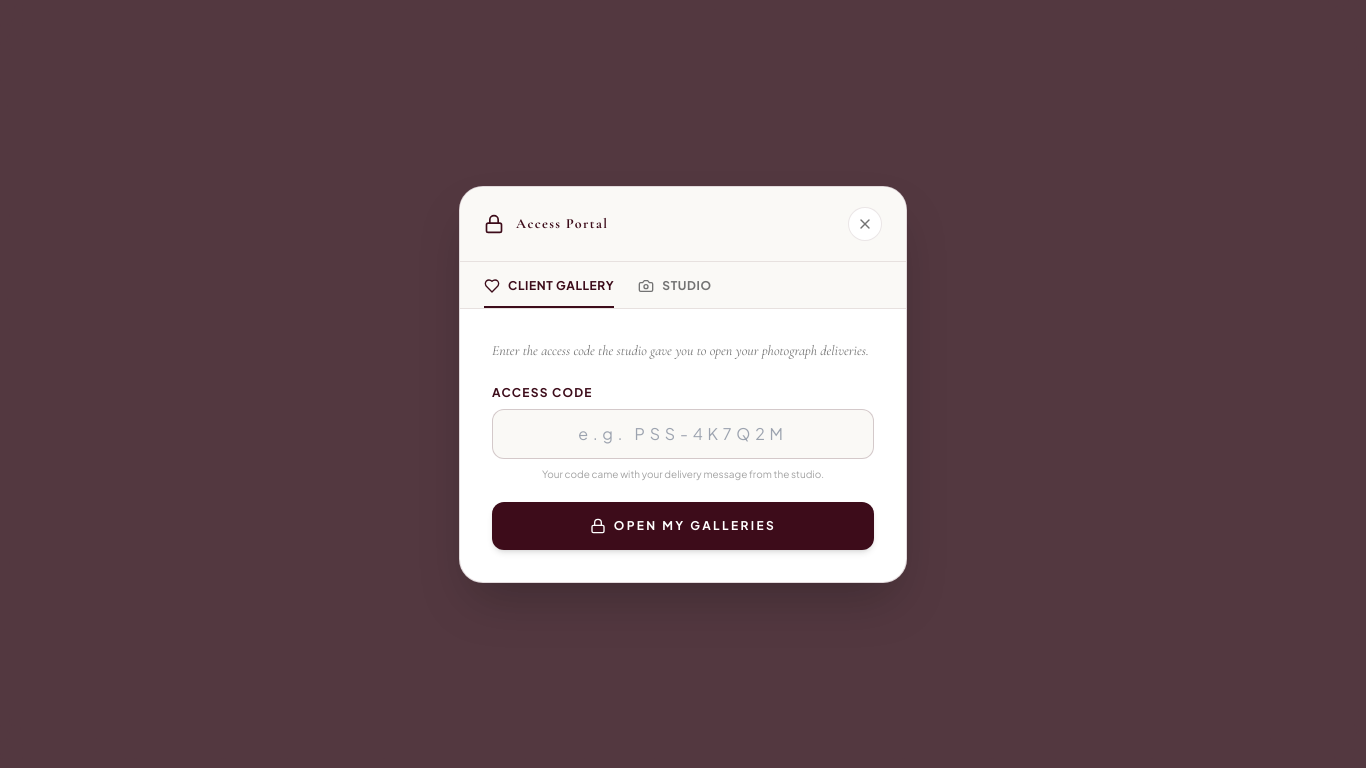
Test case: AuthModal — client sign-in (real check) › refuses an unrecognised code with a message, and never signs in
In the field labelled "Access code": (683, 434) [492, 408, 874, 458], type "WRONG-99"
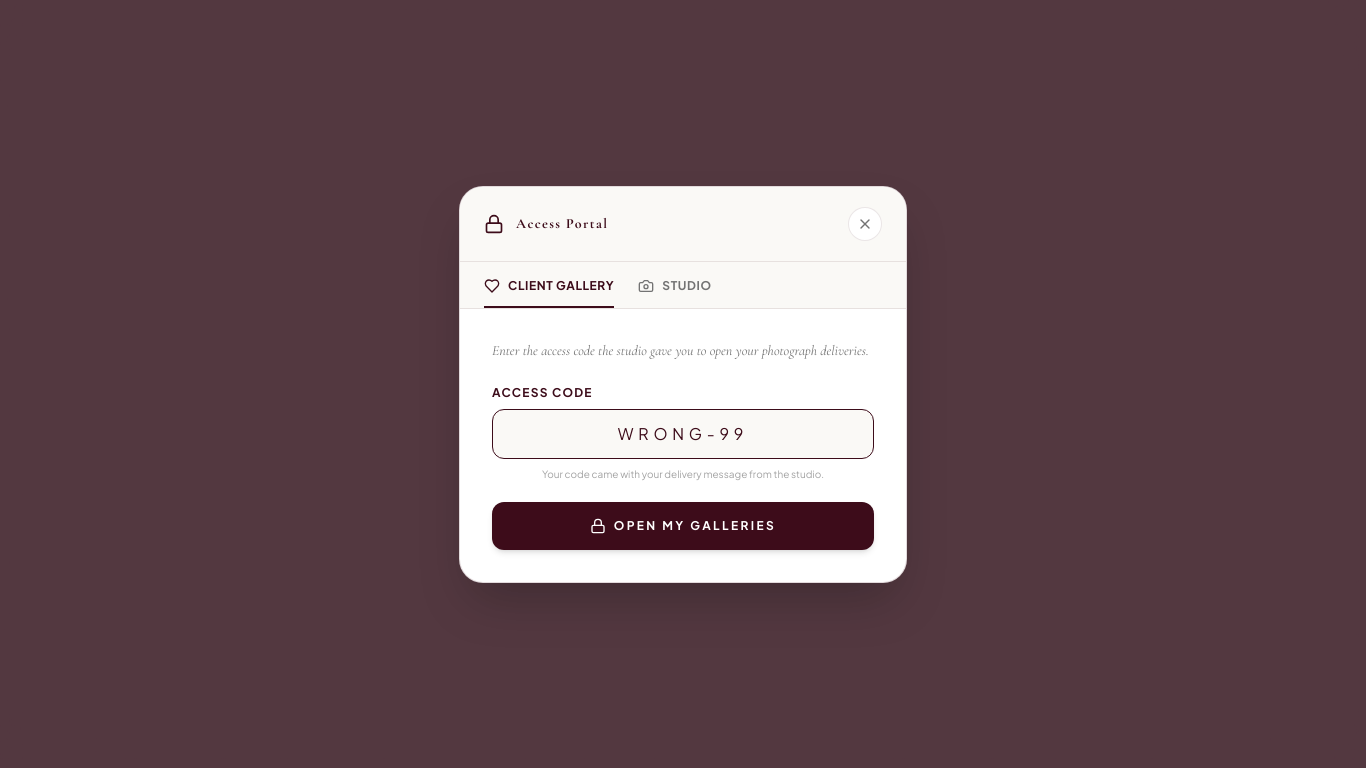
Click the button "Open My Galleries": (683, 526) [492, 502, 874, 550]
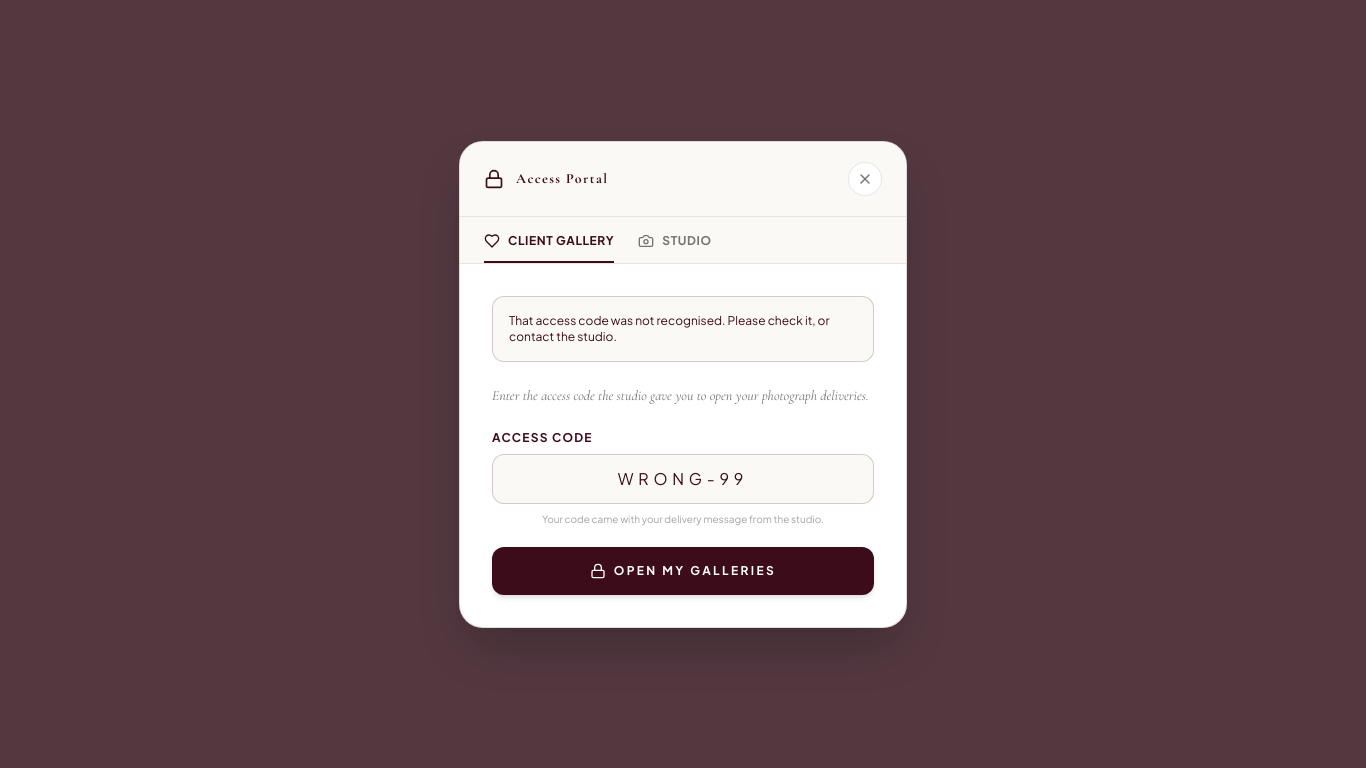
Result: the message shows "not recognised" at [509, 312, 830, 344]
